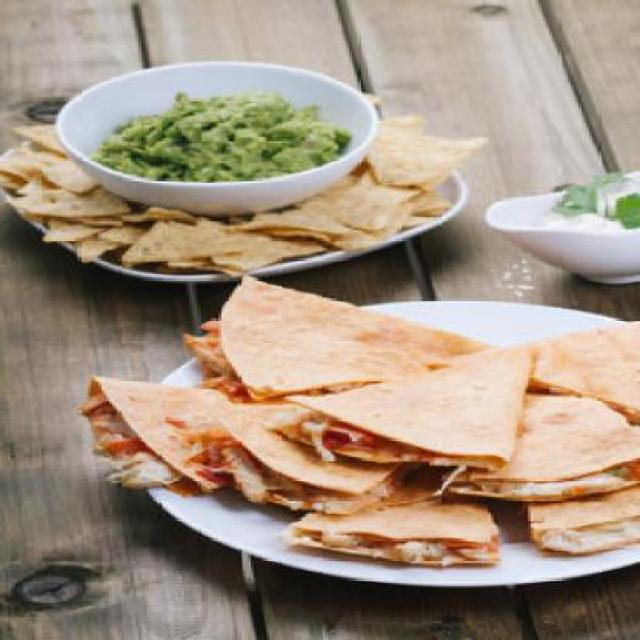chicken quesadilla: (69, 270, 637, 596)
guacamole: (91, 86, 352, 186)
